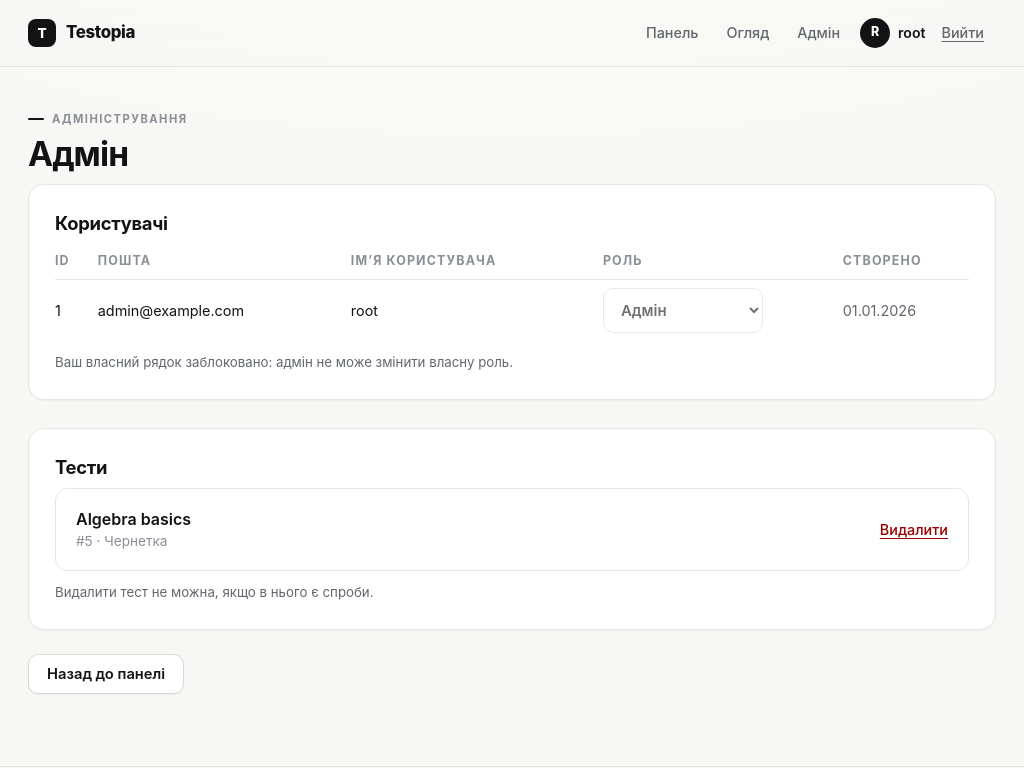
it: AdminPage › explains why a test with attempts cannot be deleted
This screenshot has width=1024, height=768.
expect the link "Algebra basics" is shown: met, box [76,509,191,529]
Click the button "Видалити".
click(914, 530)  # box [880,519,948,540]
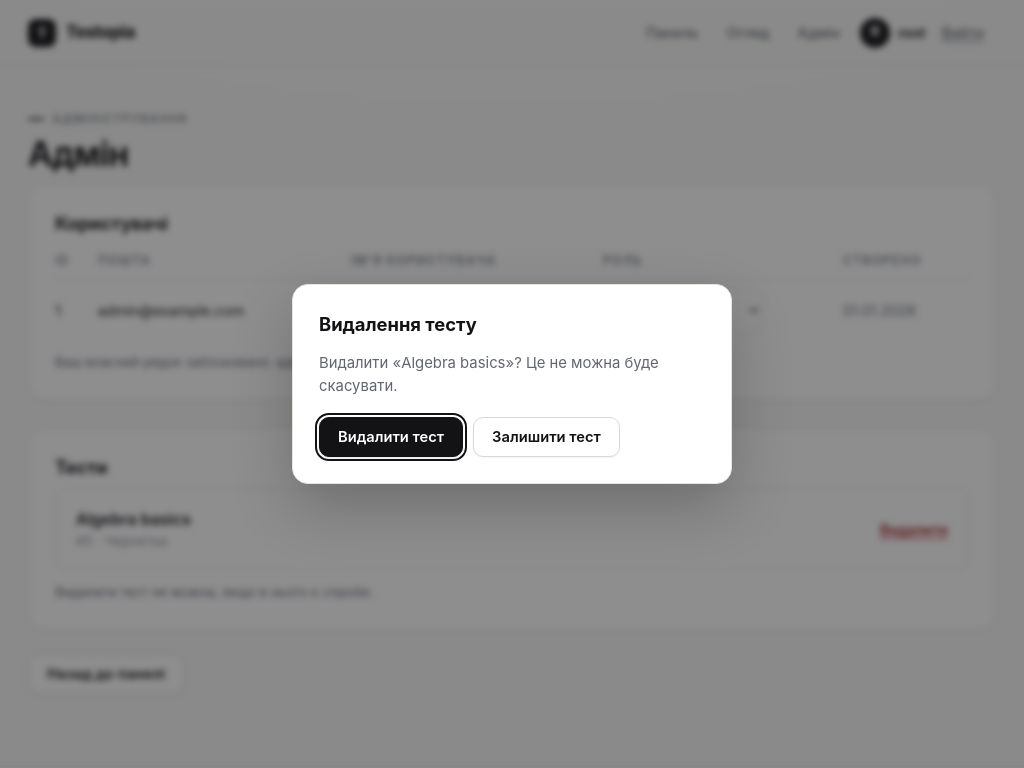
Click the button "Видалити тест".
click(391, 437)  # box [319,417,463,457]
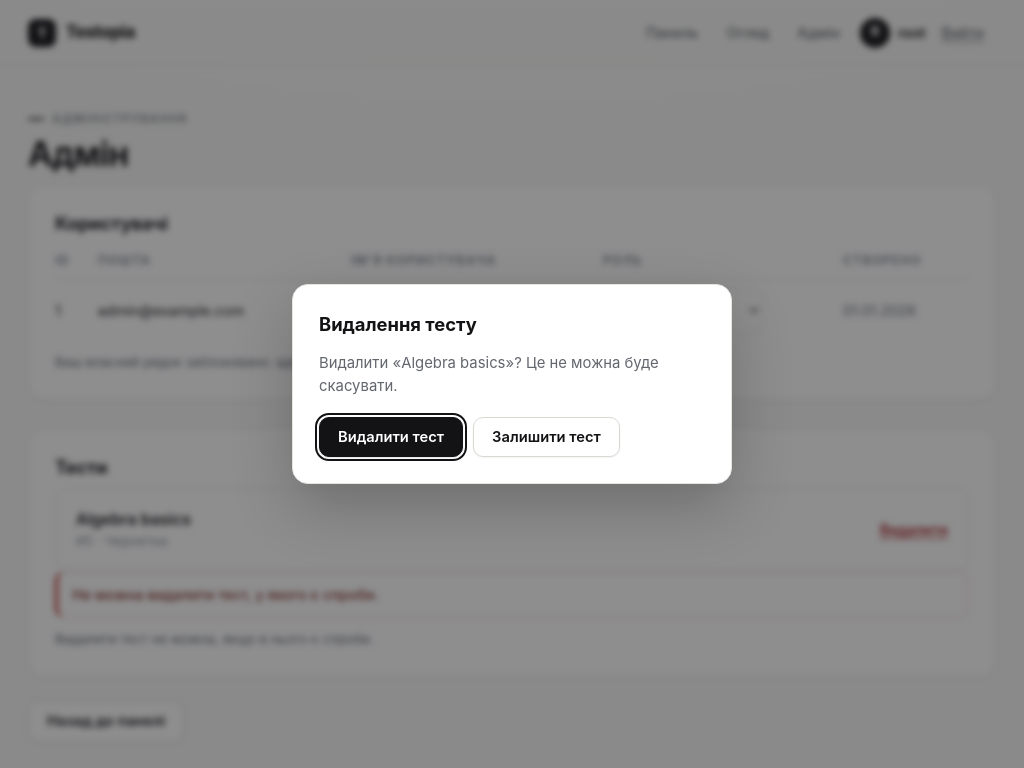
expect the link "Algebra basics" is shown: met, box [76,509,191,529]
expect the message reads "Не можна видалити тест, у якого є спроби.": met, box [72,586,379,603]
